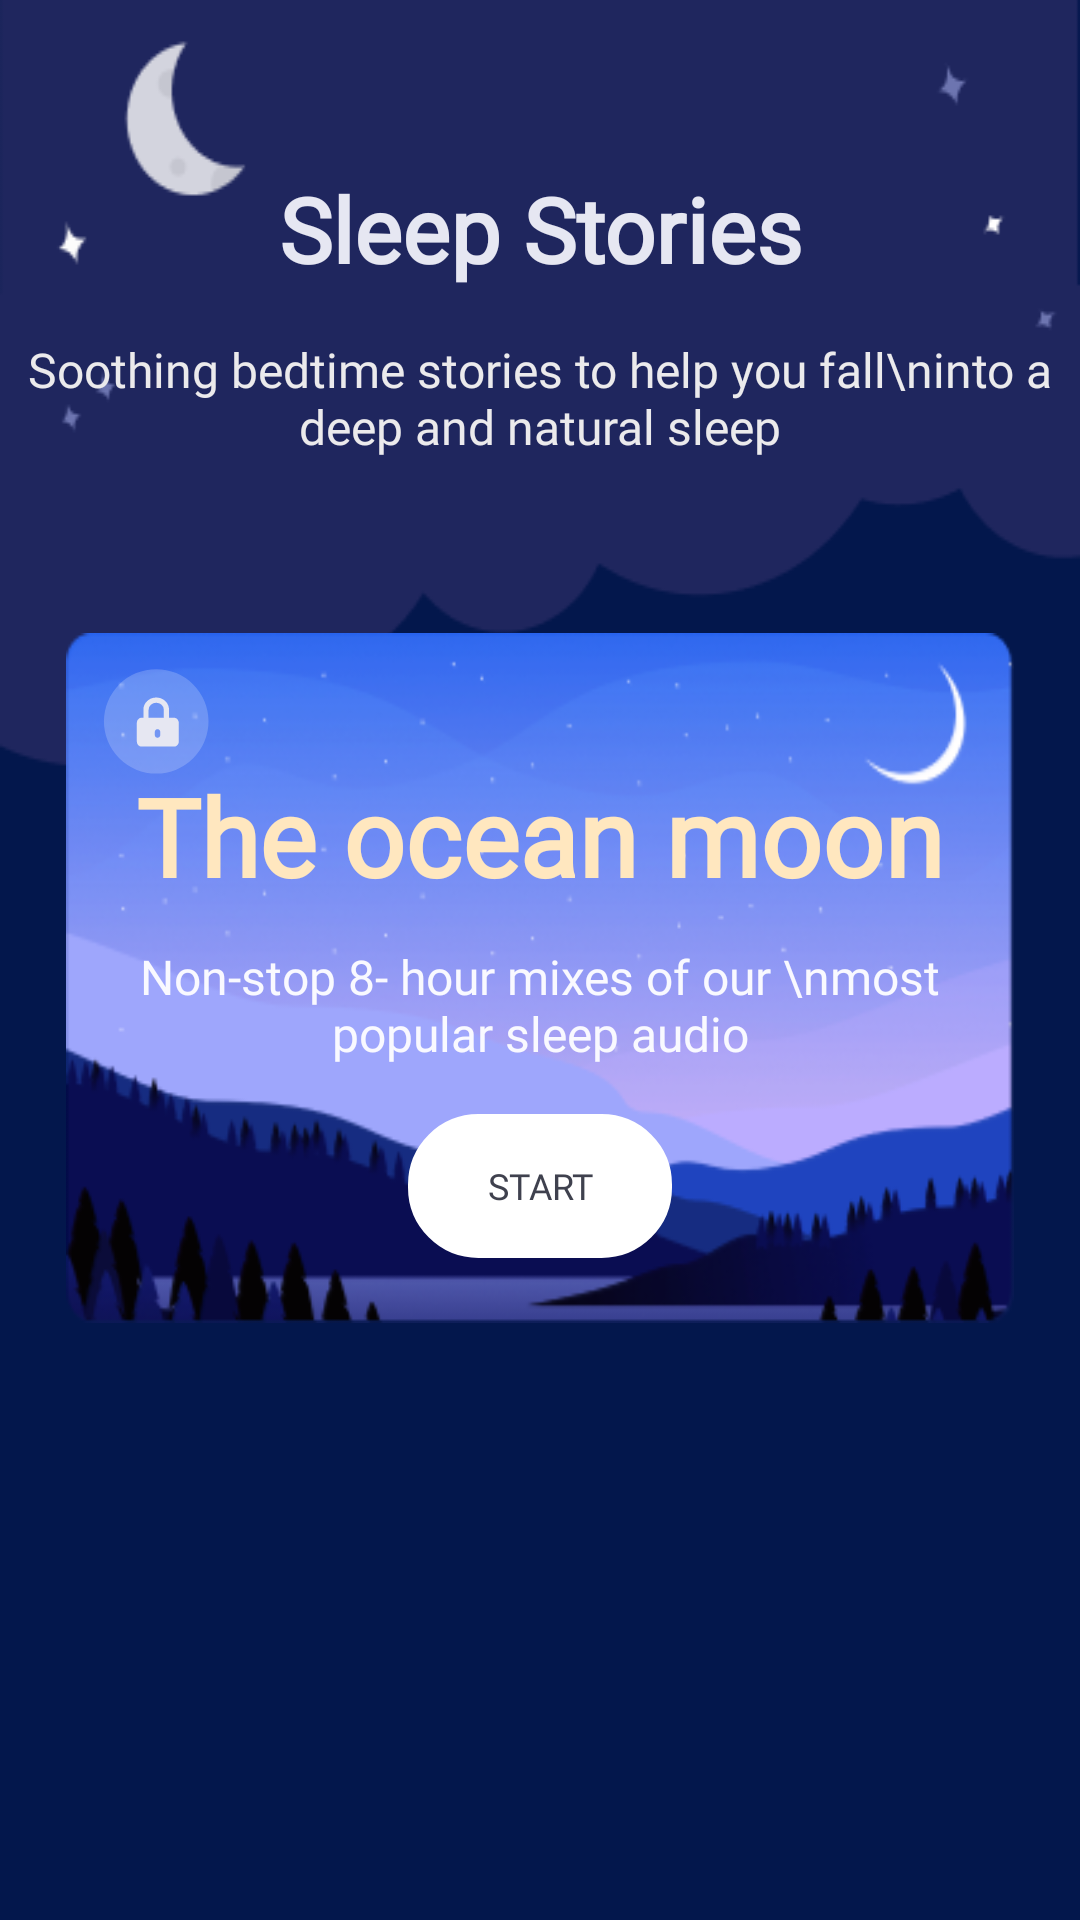

Screen size 1080 × 1920. Icon name, then its center in pixels as (x,y):
lock: (156,721)
